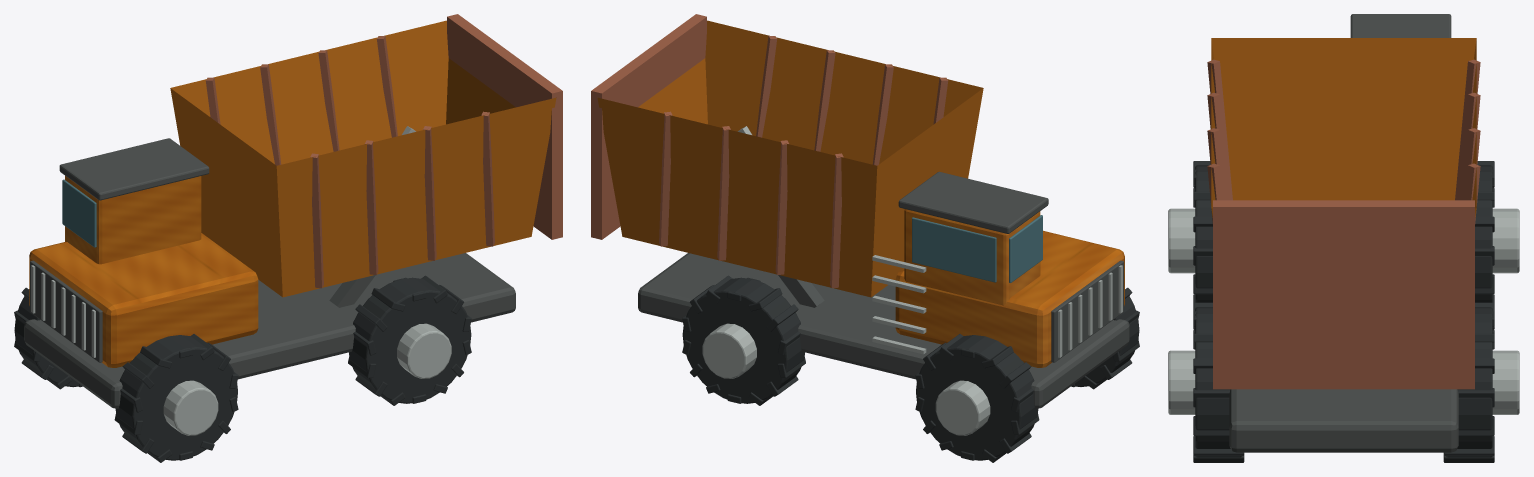
The model's file is quarry-haul-packed.glb.
3 views of the same model, side by side, from view 1: azimuth 30°, elevation 25°; view 2: azimuth 150°, elevation 25°; view 3: azimuth 270°, elevation 25° (orthographic). The views are drawn at different scales.
Visible parts, largest first — view 1: 01 quarry safety ochre / chipped enamel • merged manufacture, 04 oiled machinery / shadow steel • merged manufactured asse, 05 deep tire rubber • merged manufactured assembly, 02 weathered red oxide structural steel • merged manufacture, 03 dusted galvanized steel • merged manufactured assembly, 06 dirty blue cab glass • merged manufactured assembly; view 2: 01 quarry safety ochre / chipped enamel • merged manufacture, 04 oiled machinery / shadow steel • merged manufactured asse, 05 deep tire rubber • merged manufactured assembly, 02 weathered red oxide structural steel • merged manufacture, 03 dusted galvanized steel • merged manufactured assembly, 06 dirty blue cab glass • merged manufactured assembly; view 3: 02 weathered red oxide structural steel • merged manufacture, 01 quarry safety ochre / chipped enamel • merged manufacture, 04 oiled machinery / shadow steel • merged manufactured asse, 05 deep tire rubber • merged manufactured assembly, 03 dusted galvanized steel • merged manufactured assembly.
Part boxes in pixels (x1,y1,x2,y2): 01 quarry safety ochre / chipped enamel • merged manufacture: [29, 20, 556, 367]; 04 oiled machinery / shadow steel • merged manufactured asse: [24, 138, 515, 408]; 05 deep tire rubber • merged manufactured assembly: [14, 275, 471, 462]; 02 weathered red oxide structural steel • merged manufacture: [205, 14, 562, 288]; 03 dusted galvanized steel • merged manufactured assembly: [31, 126, 451, 435]; 06 dirty blue cab glass • merged manufactured assembly: [62, 179, 96, 247]; 01 quarry safety ochre / chipped enamel • merged manufacture: [597, 20, 1124, 367]; 04 oiled machinery / shadow steel • merged manufactured asse: [638, 171, 1129, 408]; 05 deep tire rubber • merged manufactured assembly: [682, 275, 1139, 462]; 02 weathered red oxide structural steel • merged manufacture: [591, 14, 948, 288]; 03 dusted galvanized steel • merged manufactured assembly: [702, 126, 1122, 435]; 06 dirty blue cab glass • merged manufactured assembly: [912, 215, 1042, 282]; 02 weathered red oxide structural steel • merged manufacture: [1207, 59, 1480, 389]; 01 quarry safety ochre / chipped enamel • merged manufacture: [1211, 38, 1476, 217]; 04 oiled machinery / shadow steel • merged manufactured asse: [1229, 14, 1458, 452]; 05 deep tire rubber • merged manufactured assembly: [1193, 161, 1494, 462]; 03 dusted galvanized steel • merged manufactured assembly: [1168, 208, 1519, 414].
Bounding box in the file's own units: 11.52 × 6.64 × 6.28.
Materials: 6 (1 with a texture image).
